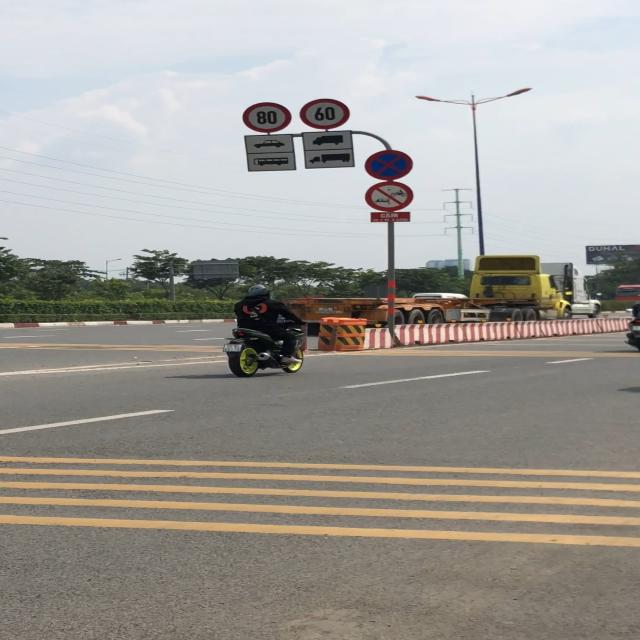Bien bao cam dung xe va do xe: (362, 149, 417, 179)
Bien bao toc do toi da cho phep: (241, 100, 294, 133), (298, 99, 354, 129)
